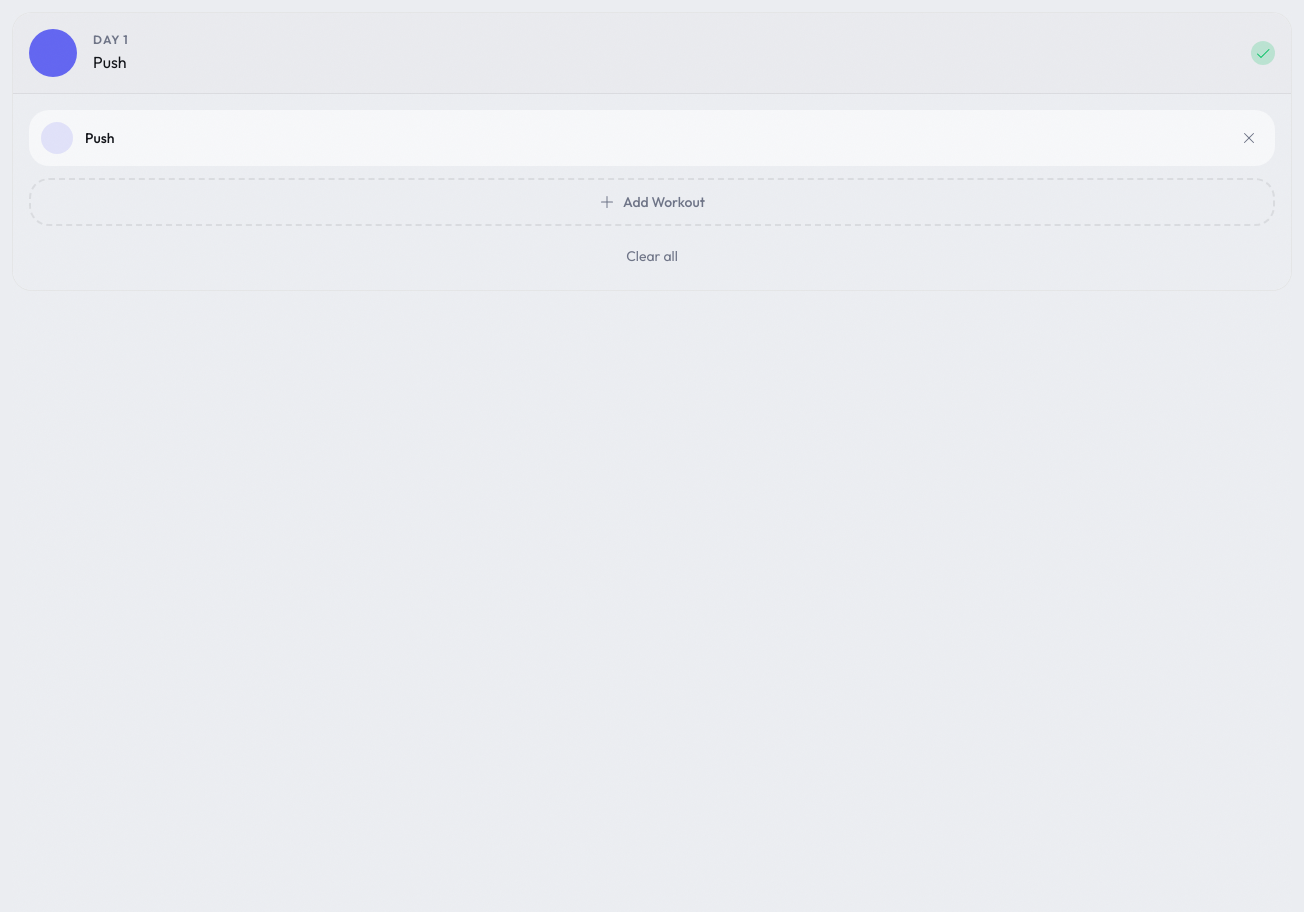
Test case: OnboardingDayRow › expanded state - with existing workouts › shows picker when Add Workout is clicked
The width and height of the screenshot is (1304, 912).
Click the button "Add Workout". click: (652, 202)
box: [29,178,1275,226]
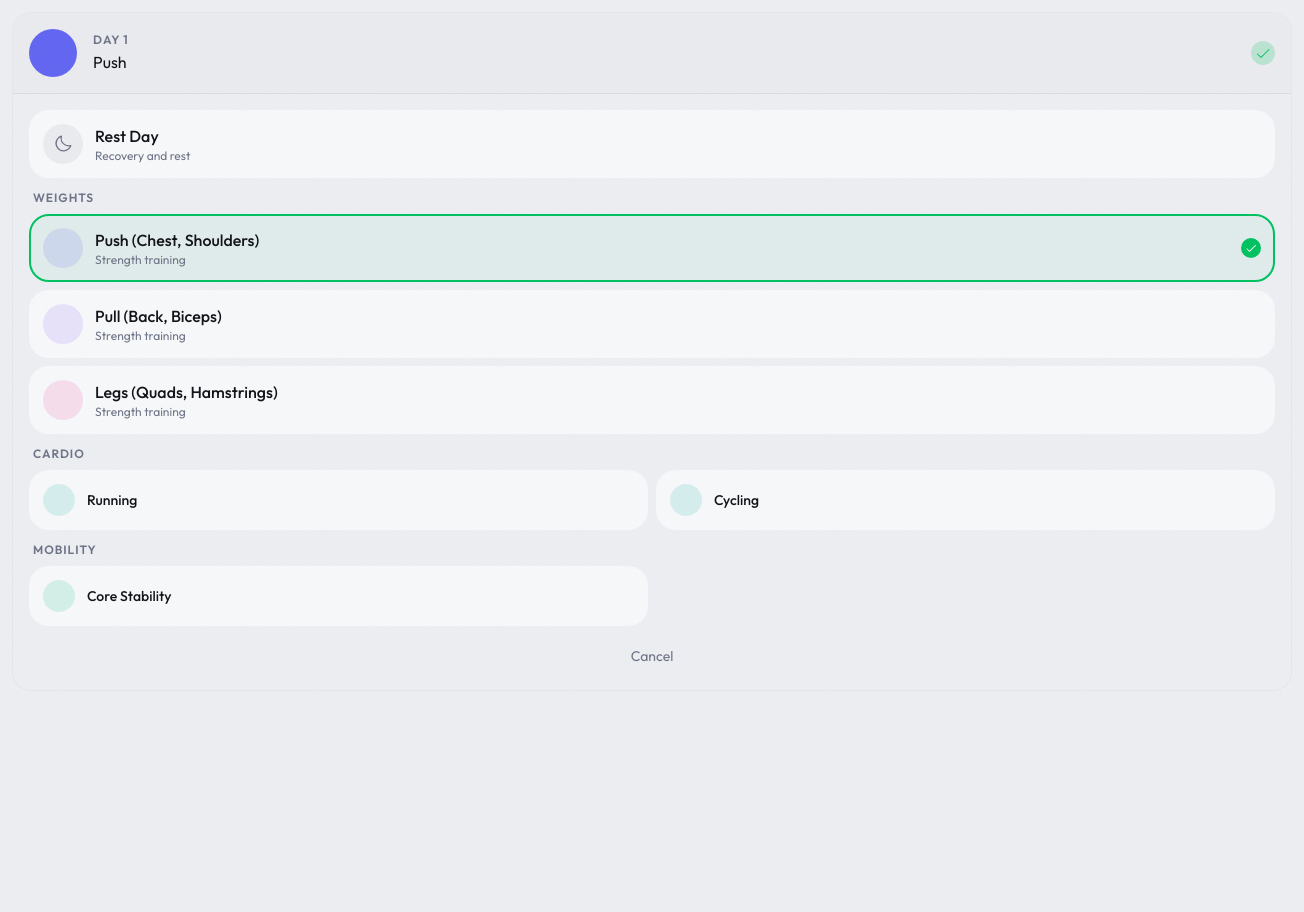
Check: the text "Weights" is shown, box [33,190,94,205]
Check: the text "Cardio" is shown, box [33,446,85,461]
